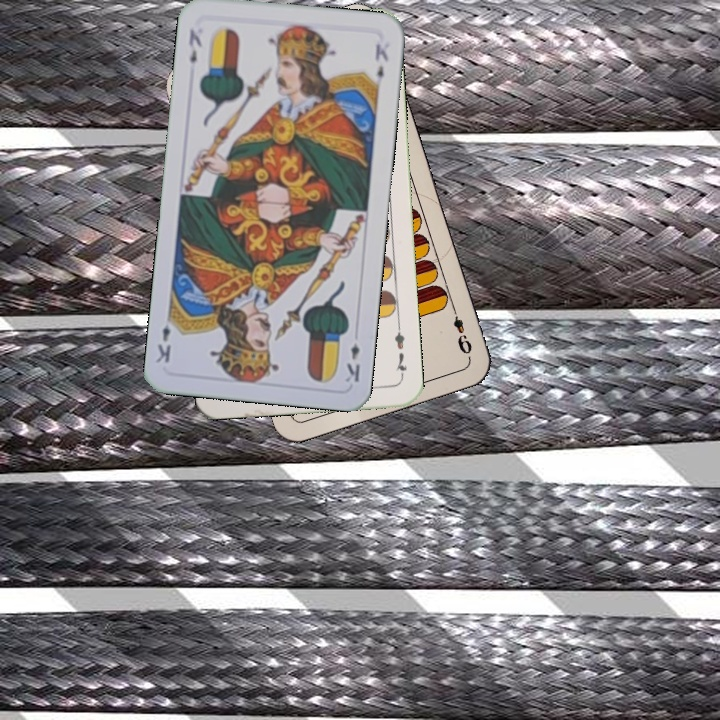E7: (391, 322, 410, 381)
E9: (448, 302, 475, 357)
EK: (341, 339, 363, 385), (184, 25, 204, 66)
